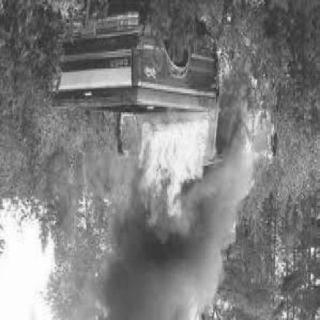Fire: (134, 37, 284, 227)
Smoke: (78, 154, 264, 316)
